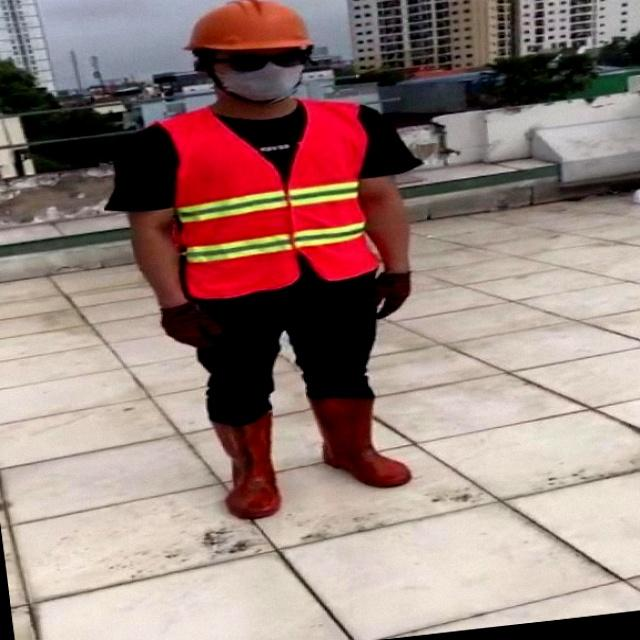helmet: (178, 0, 312, 51)
safety_vest: (149, 91, 391, 308)
